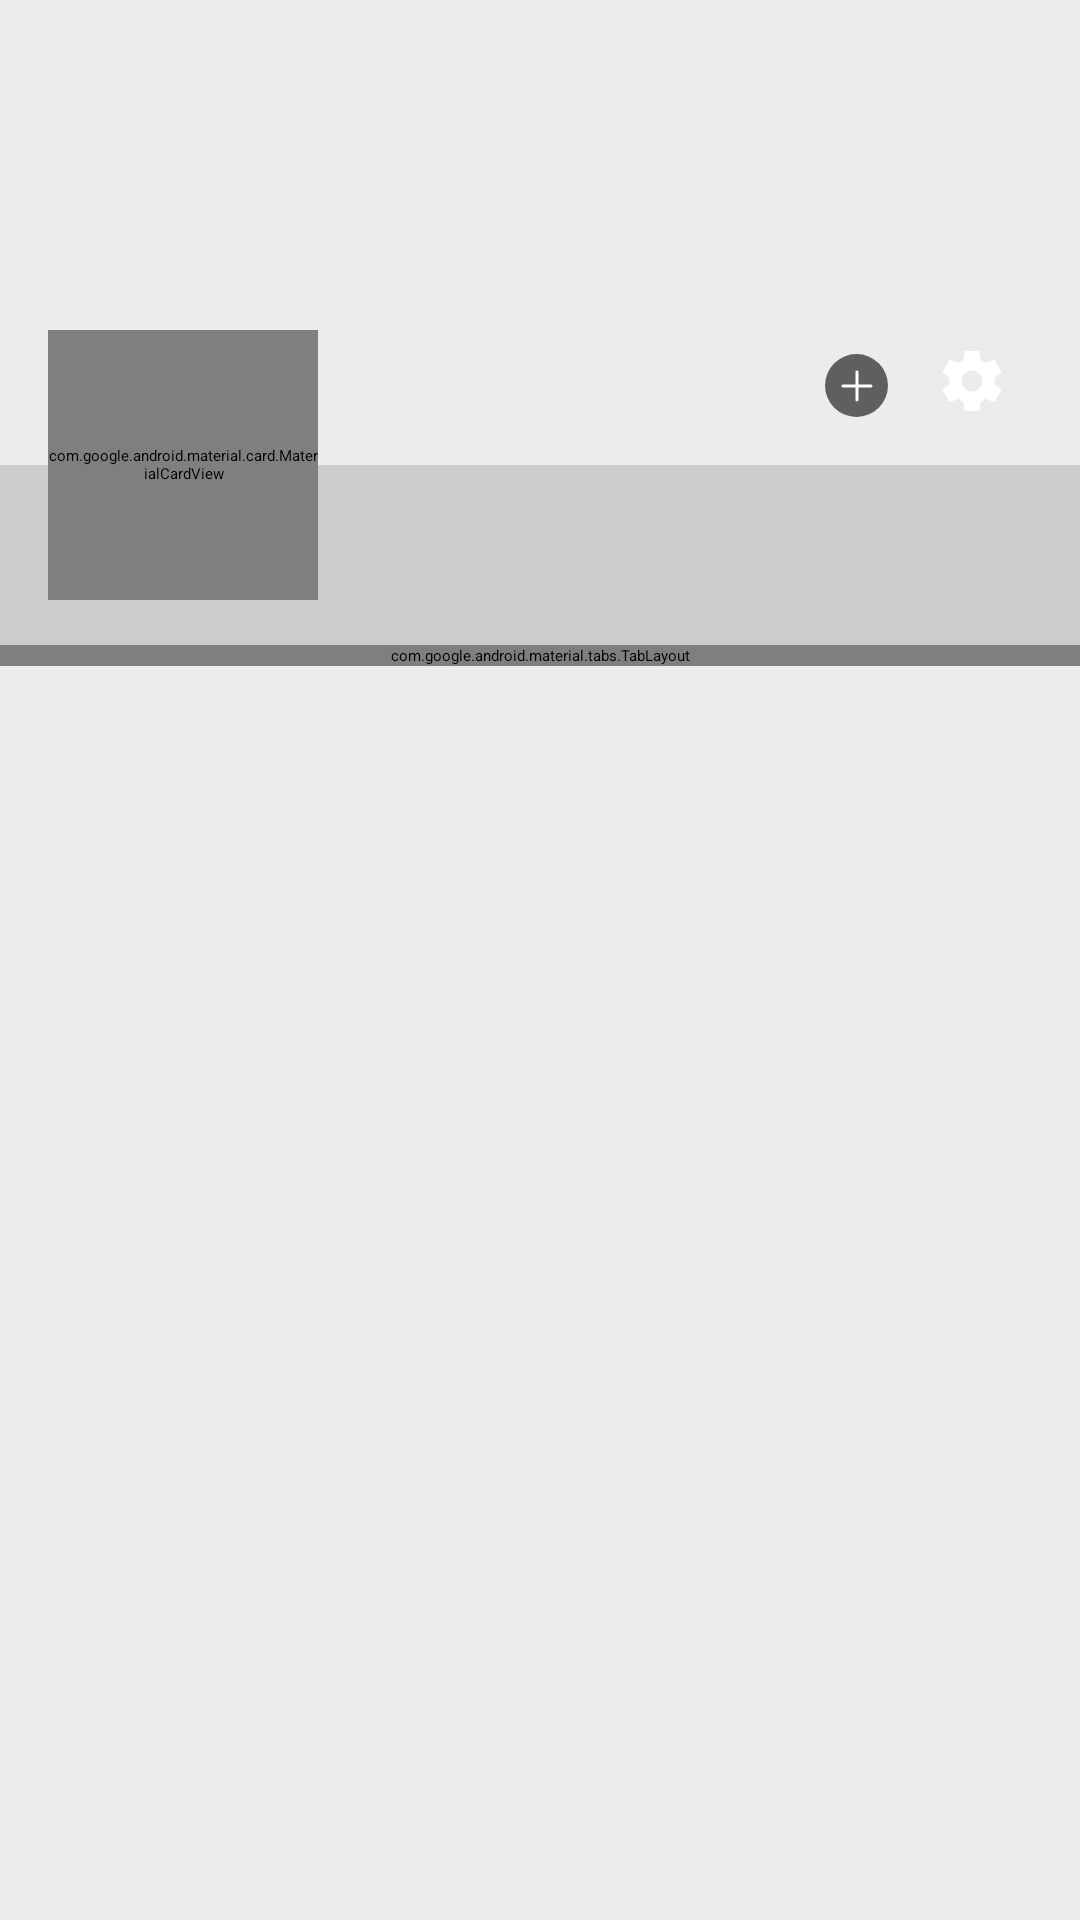

Named icons in this screenshot (1080x1920) and their bounding boxes, {"left": x1, "top": y1, "right": x2, "bottom": y2}:
plus: {"left": 825, "top": 354, "right": 888, "bottom": 417}
